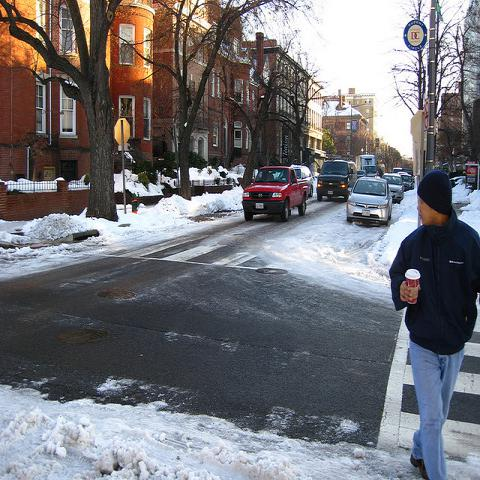car: (346, 176, 394, 225), (316, 160, 353, 202), (381, 172, 404, 204), (292, 165, 314, 197), (401, 174, 411, 190), (357, 170, 367, 179), (392, 168, 403, 176)
truck: (242, 166, 310, 223), (316, 160, 357, 202), (355, 155, 377, 177)
